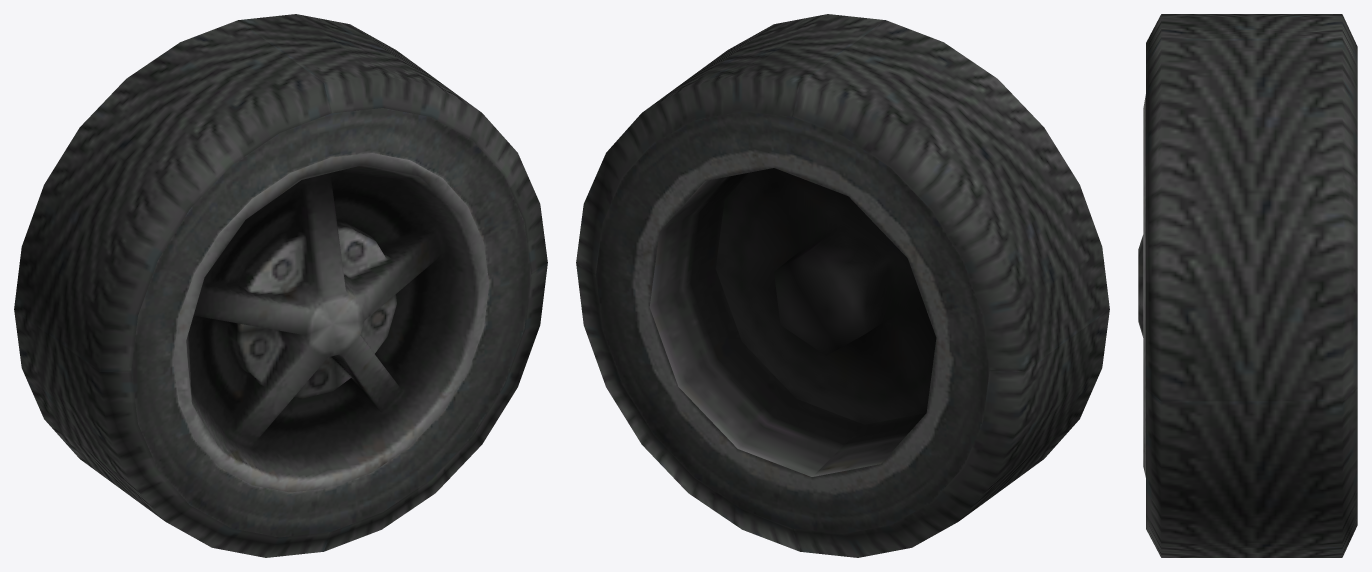
The model's file is V_A_ClassicMuscle_Wheels_2_SkeletalMesh3_SkeletalMesh_13.psk.glb.
3 views of the same model, side by side, from view 1: azimuth 30°, elevation 25°; view 2: azimuth 150°, elevation 25°; view 3: azimuth 270°, elevation 25° (orthographic). The views are drawn at different scales.
Bounding box in the file's own units: 67.92 × 67.92 × 27.32.
Materials: 1 (1 with a texture image).
